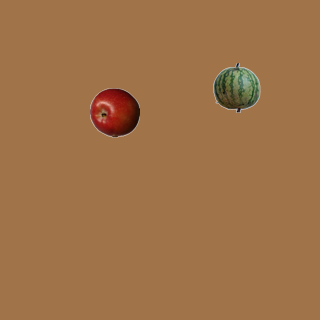Apple Braeburn: (89, 87, 139, 137)
Watermelon: (211, 62, 261, 112)
